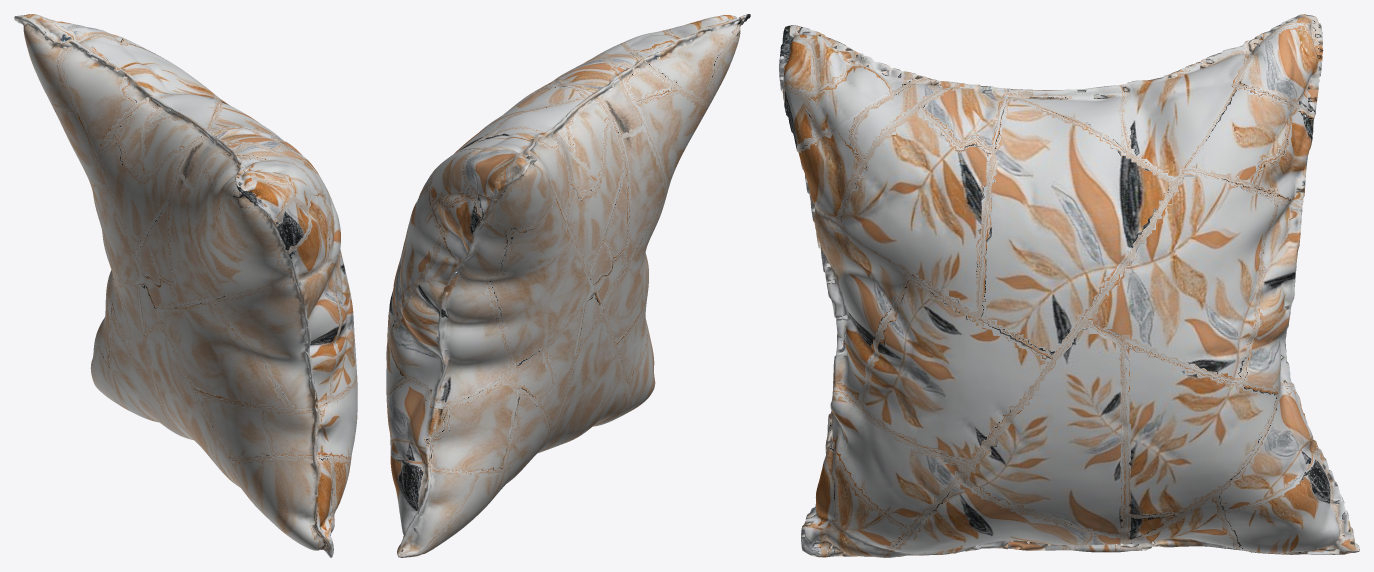
The model's file is autumn-print-cushion.glb.
The picture shows the model from 3 angles, left to right: view 1: azimuth 30°, elevation 25°; view 2: azimuth 150°, elevation 25°; view 3: azimuth 270°, elevation 25°; orthographic projection. The views are drawn at different scales.
Parts seen in each view (by area): view 1: product; view 2: product; view 3: product.
Boxes of the visible parts, x1,y1,x2,y2 form: product: (14, 14, 357, 557); product: (386, 14, 750, 557); product: (779, 14, 1359, 557).
Size of the model in its own units: 0.4694 by 0.9189 by 0.9968.
Materials: 1 (1 with a texture image).
